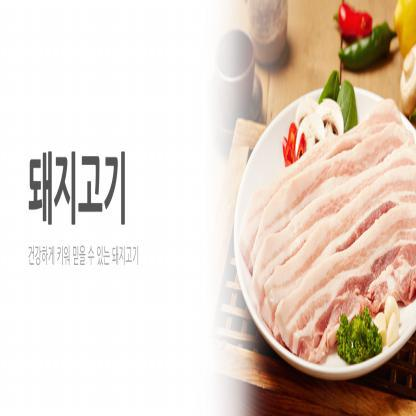pork: (253, 123, 415, 357)
